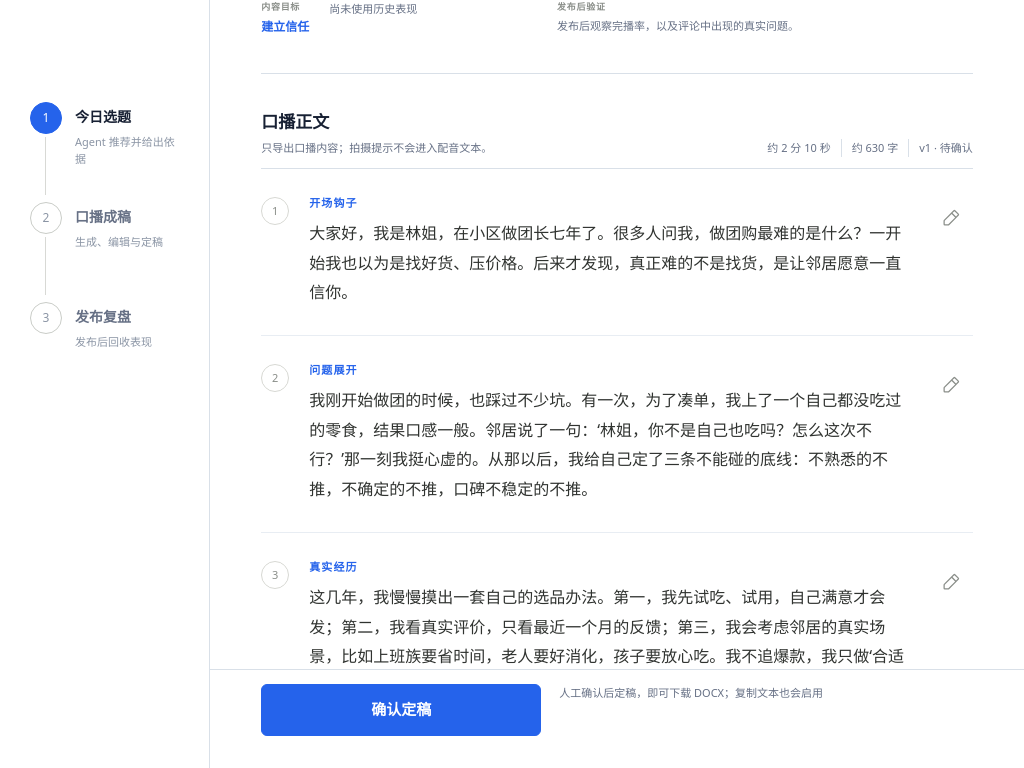
Test: approved AI-native page hierarchy › edits one script paragraph without opening the other paragraphs
(page scrolled)
Click the button named "编辑第 2 段" at (951, 385), box [929, 363, 973, 407]
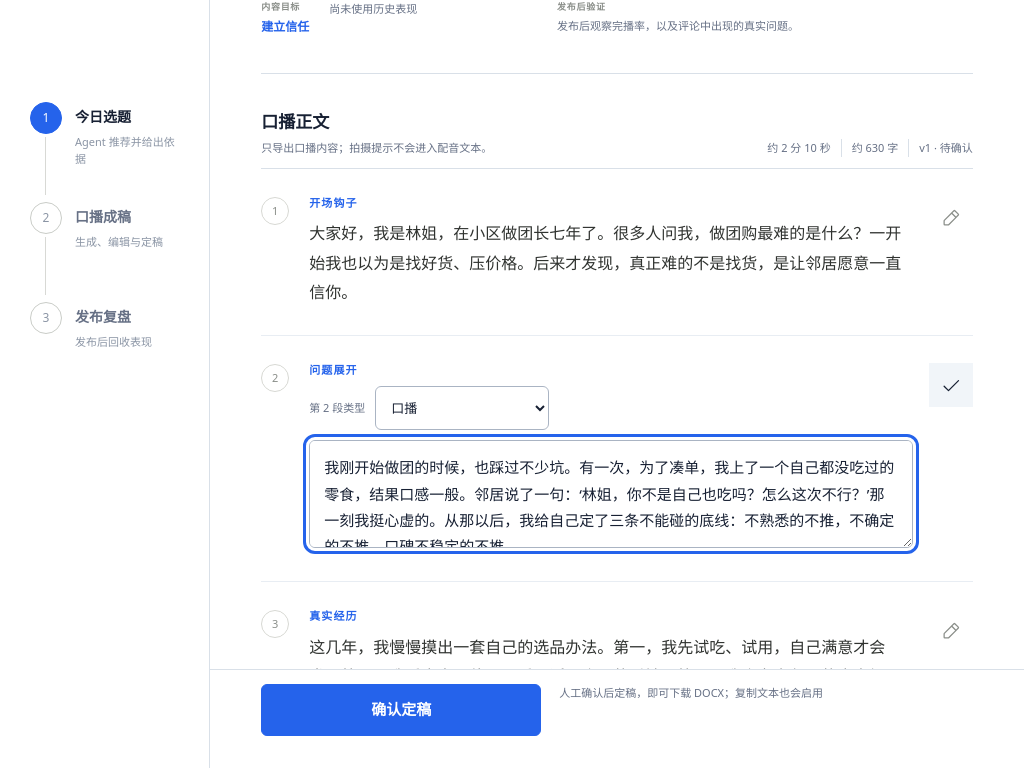
Check: the text box named "第 2 段" is shown
Replace the text in the text box named "第 2 段" with "这是单独修改后的第二段。" at (611, 494), box [309, 440, 913, 548]
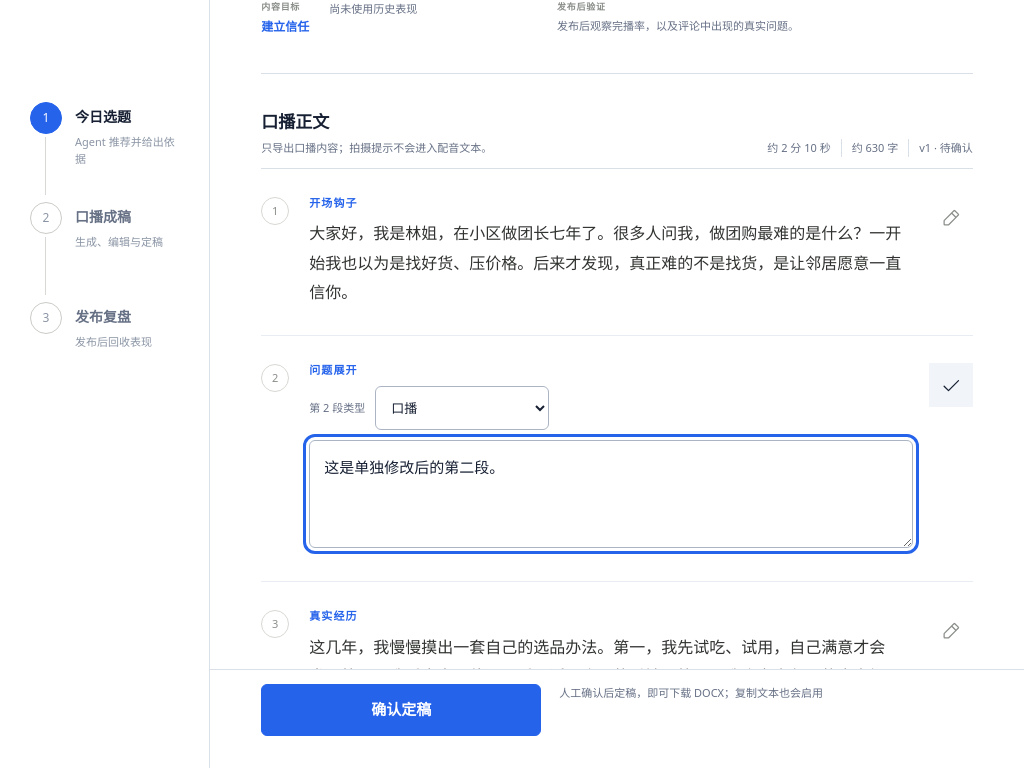
Click the button named "完成第 2 段编辑" at (951, 385), box [929, 363, 973, 407]
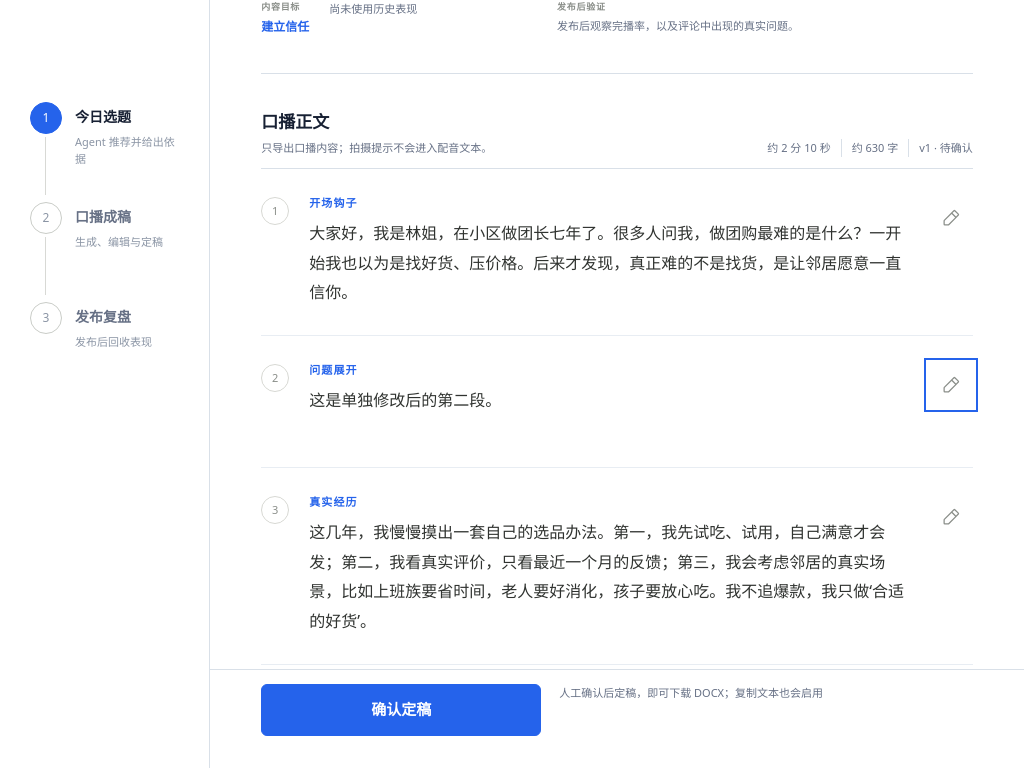
Check: the text "这是单独修改后的第二段。" is shown, box [309, 389, 501, 411]
Check: the text "第 2 段" is gone
